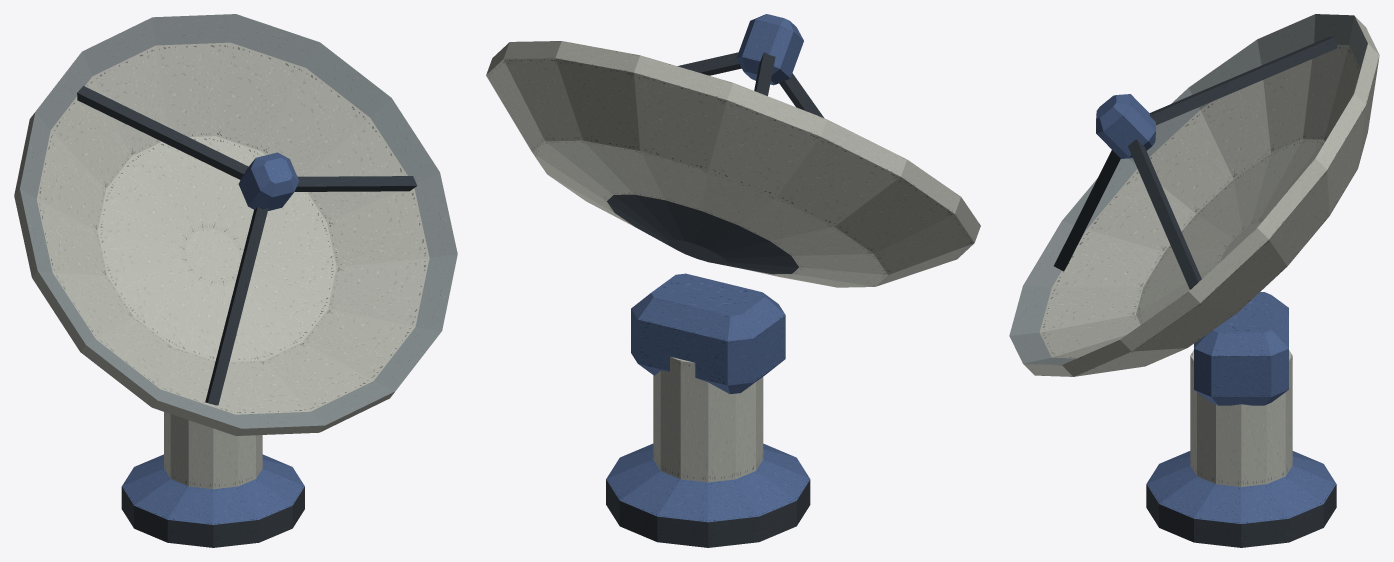
File: CommsDish.fbx
3 renders of one model, left to right at view 1: azimuth 30°, elevation 25°; view 2: azimuth 150°, elevation 25°; view 3: azimuth 270°, elevation 25°, orthographic. The views are drawn at different scales.
Parts seen in each view (by area): view 1: CommsDish; view 2: CommsDish; view 3: CommsDish.
Boxes of the visible parts, left/top/right/bottom form: CommsDish: left=14, top=14, right=457, bottom=547; CommsDish: left=486, top=14, right=980, bottom=547; CommsDish: left=1009, top=14, right=1379, bottom=547.
Size of the model in its own units: 330 by 351 by 253.
